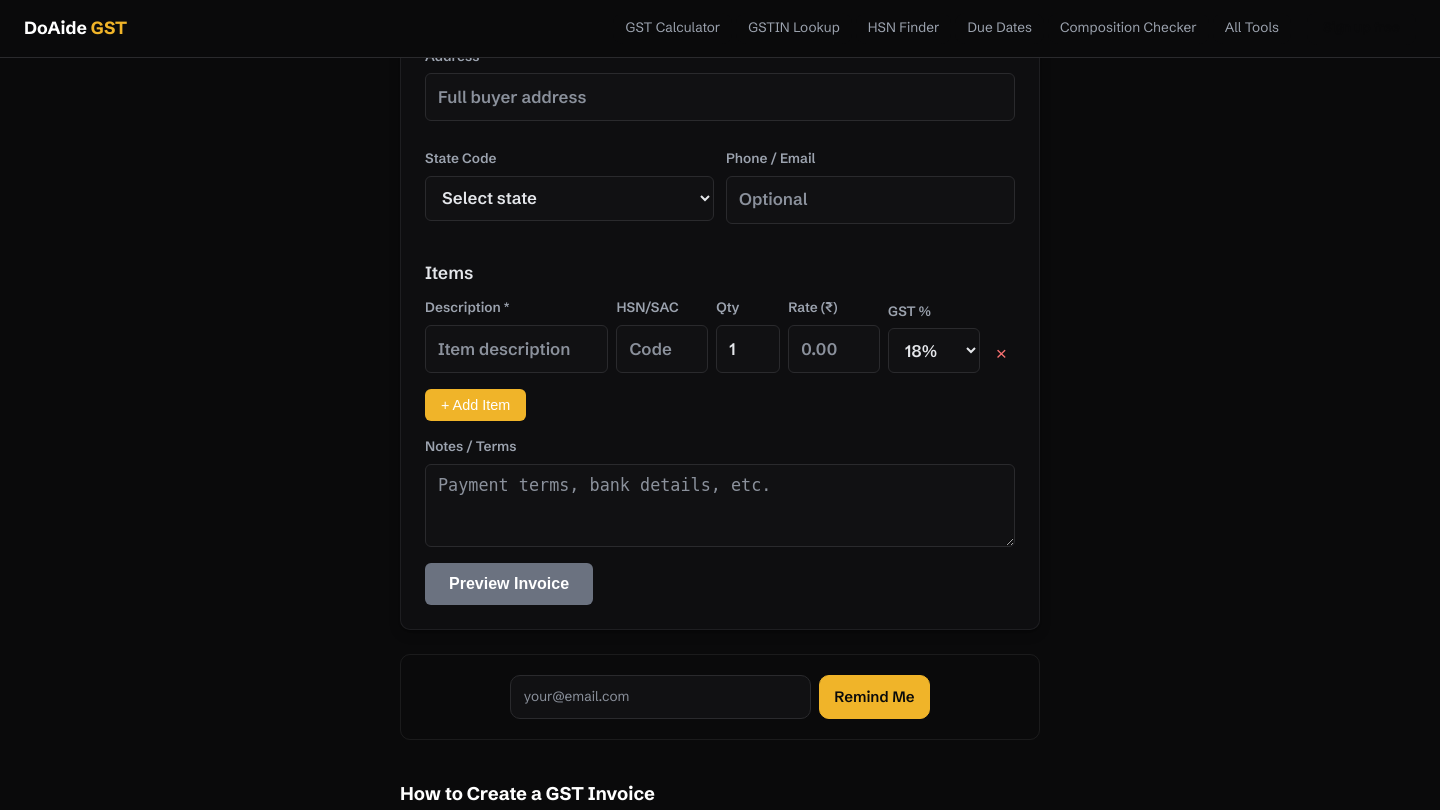
Scenario: InvoiceGeneratorPage › labels every line item's fields, not just the first row's
(page scrolled)
Click the button "+ Add Item": x=476, y=405 [425,389,526,421]
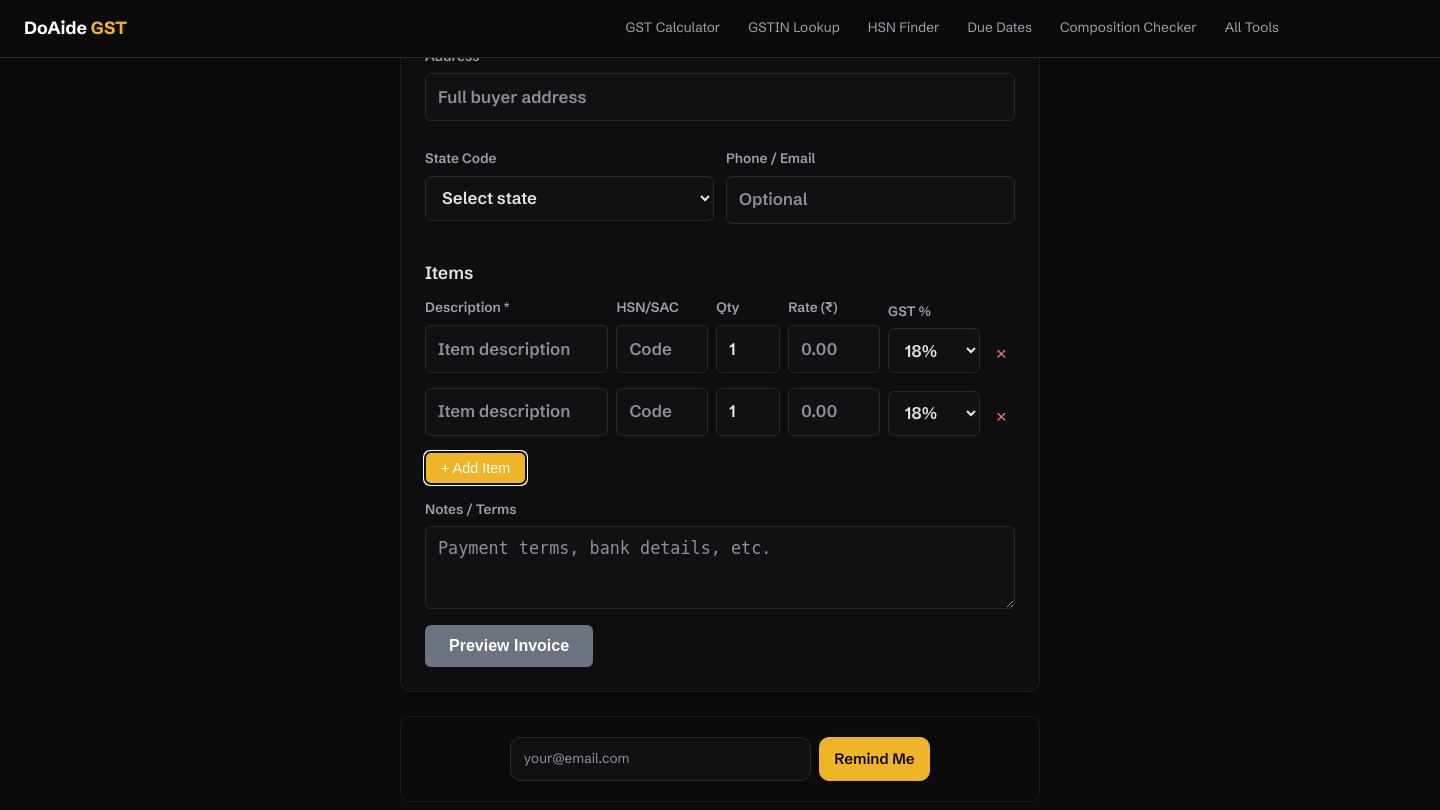
expect the number of fields labelled "Description *" is 2: met, box [425,325,608,373]; [425,388,608,436]
expect the number of fields labelled "HSN/SAC" is 2: met, box [616,325,708,373]; [616,388,708,436]
expect the number of number fields labelled "Qty" is 2: met, box [716,325,780,373]; [716,388,780,436]
